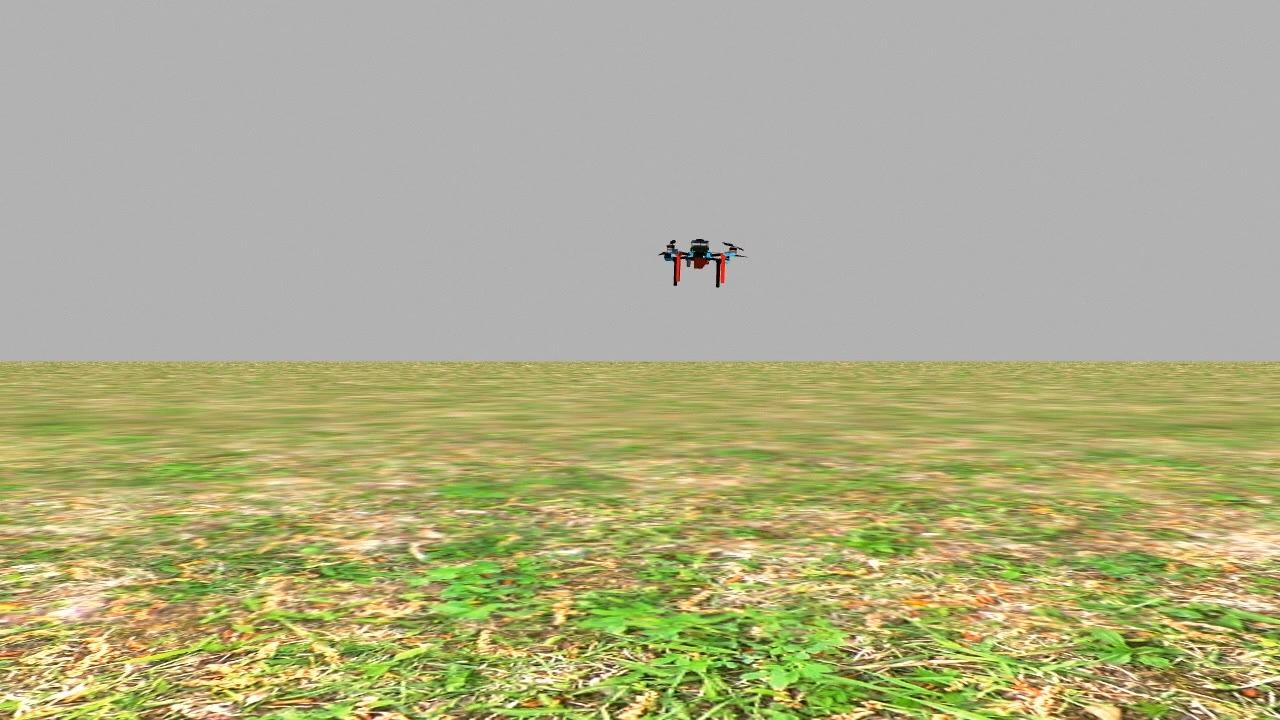UAV: (660, 224, 733, 299)
